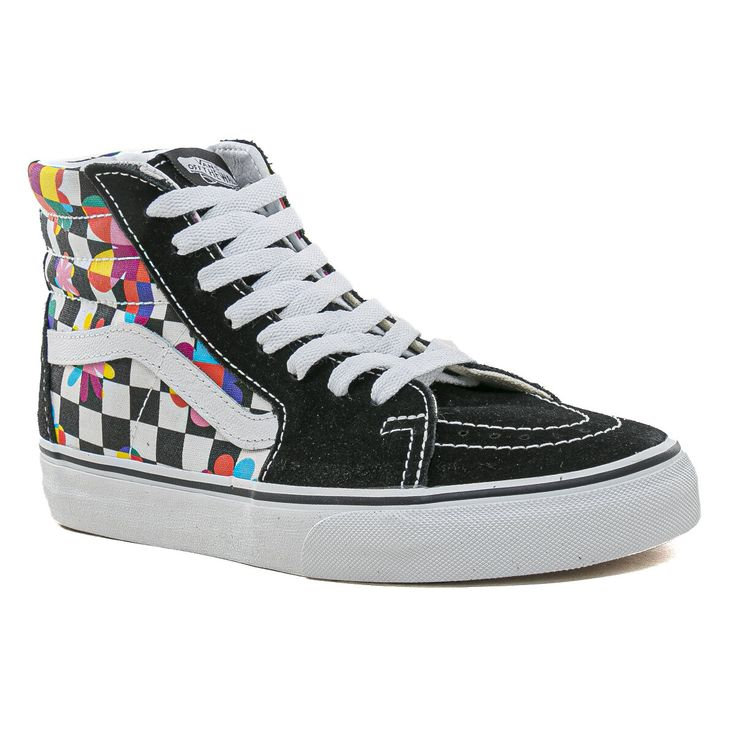gamuza: (97, 172, 668, 490)
